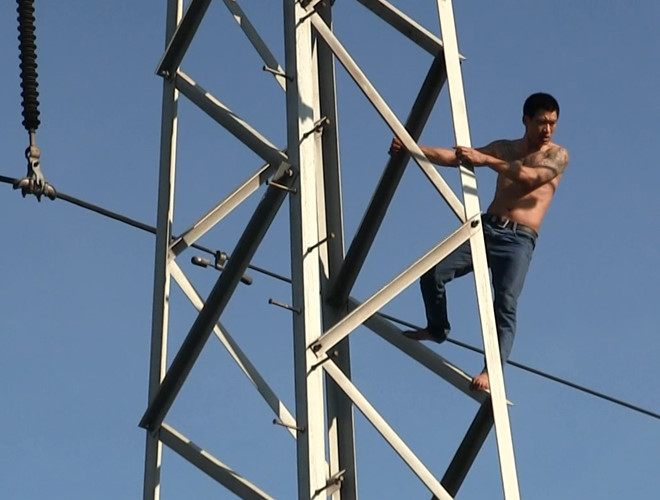infiltrator: (389, 86, 573, 409)
